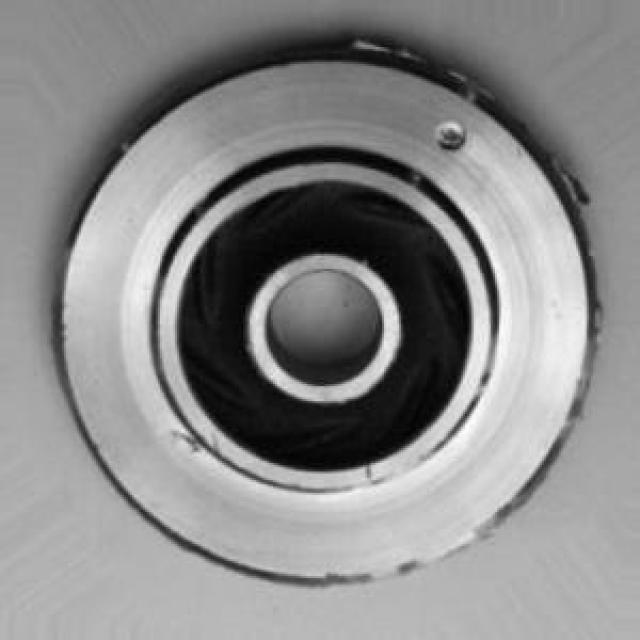Defect: (545, 162, 598, 218), (436, 112, 470, 168), (172, 422, 198, 465)
